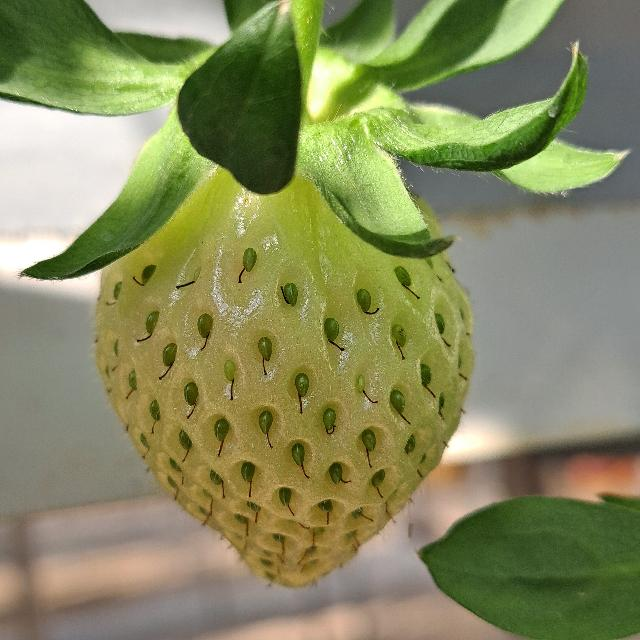Health_25: (94, 165, 474, 589)
